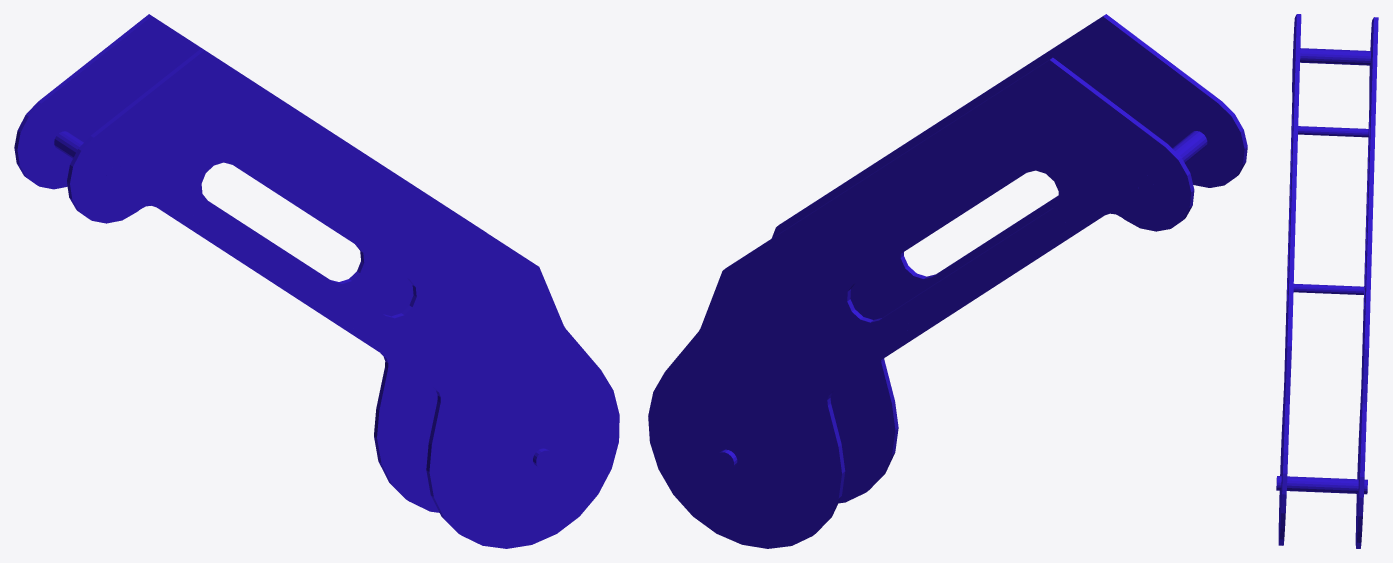
3 renders of one model, left to right at view 1: azimuth 30°, elevation 25°; view 2: azimuth 150°, elevation 25°; view 3: azimuth 270°, elevation 25°, orthographic. The views are drawn at different scales.
Visible parts, largest first — view 1: Link_3; view 2: Link_3; view 3: Link_3.
Part boxes in pixels (x1,y1,x2,y2): Link_3: (14,14,619,548); Link_3: (648,14,1247,548); Link_3: (1276,14,1378,548).
Size of the model in its own units: 0.18 by 0.04 by 0.18.
